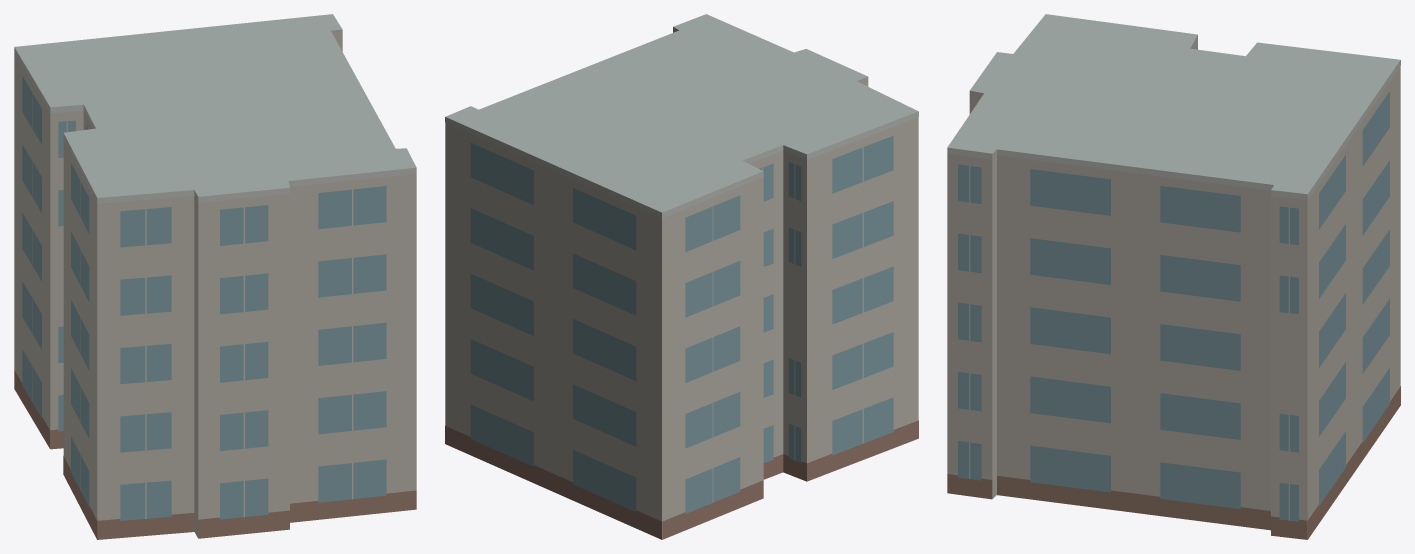
File: survey-upis-32875845.glb
3 views of the same model, side by side, from view 1: azimuth 30°, elevation 25°; view 2: azimuth 150°, elevation 25°; view 3: azimuth 270°, elevation 25° (orthographic). The views are drawn at different scales.
Parts seen in each view (by area): view 1: survey-upis-32875845.tmp; view 2: survey-upis-32875845.tmp; view 3: survey-upis-32875845.tmp.
Part boxes in pixels (x1,y1,x2,y2): survey-upis-32875845.tmp: (14, 14, 416, 539); survey-upis-32875845.tmp: (445, 14, 918, 539); survey-upis-32875845.tmp: (947, 14, 1400, 539).
Size of the model in its own units: 15.89 by 14.2 by 16.89.
